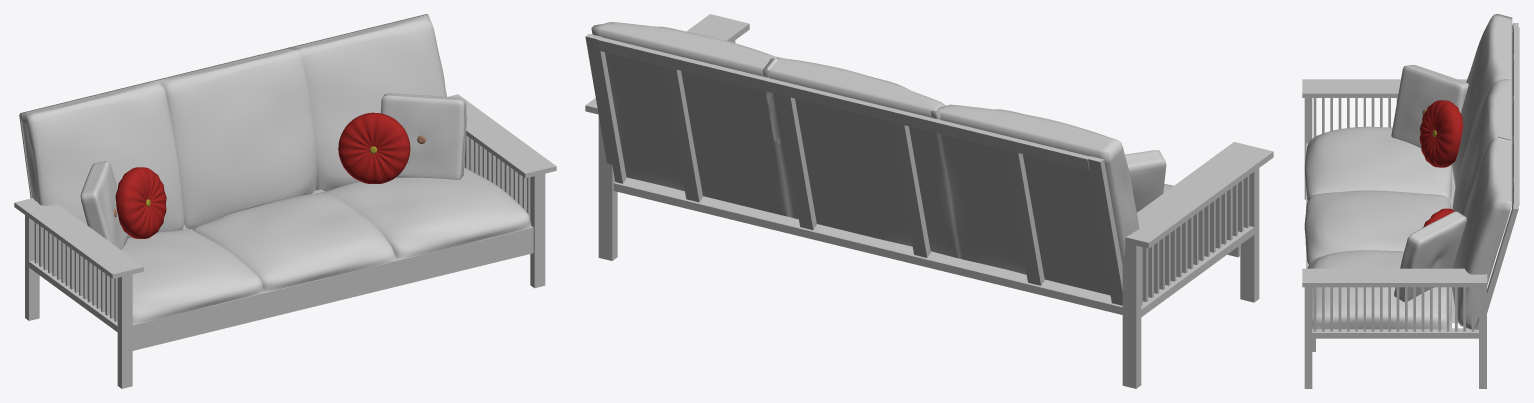
The model's file is Wood Fraim sofa.obj.
3 views of the same model, side by side, from view 1: azimuth 30°, elevation 25°; view 2: azimuth 150°, elevation 25°; view 3: azimuth 270°, elevation 25° (orthographic). The views are drawn at different scales.
Parts seen in each view (by area): view 1: couch_cushin_Cube.016, Cube, Cube.001_Cube.019, Circle, Circle.002_Circle.004, Cube.002_Cube.020; view 2: couch_cushin_Cube.016, Cube, Cube.002_Cube.020; view 3: couch_cushin_Cube.016, Cube, Cube.002_Cube.020, Cube.001_Cube.019, Circle.002_Circle.004, Circle.
Boxes of the visible parts, x1,y1,x2,y2 form: couch_cushin_Cube.016: (20, 14, 531, 323); Cube: (14, 94, 556, 388); Cube.001_Cube.019: (381, 93, 466, 179); Circle: (338, 112, 410, 183); Circle.002_Circle.004: (115, 167, 166, 238); Cube.002_Cube.020: (80, 161, 128, 250); couch_cushin_Cube.016: (591, 22, 1173, 295); Cube: (585, 14, 1273, 388); Cube.002_Cube.020: (1125, 150, 1166, 212); couch_cushin_Cube.016: (1304, 14, 1512, 329); Cube: (1302, 23, 1519, 388); Cube.002_Cube.020: (1391, 65, 1468, 147); Cube.001_Cube.019: (1394, 211, 1466, 301); Circle.002_Circle.004: (1419, 100, 1463, 167); Circle: (1423, 208, 1455, 227).
Bounding box in the file's own units: 4.95 × 2.11 × 2.23.
